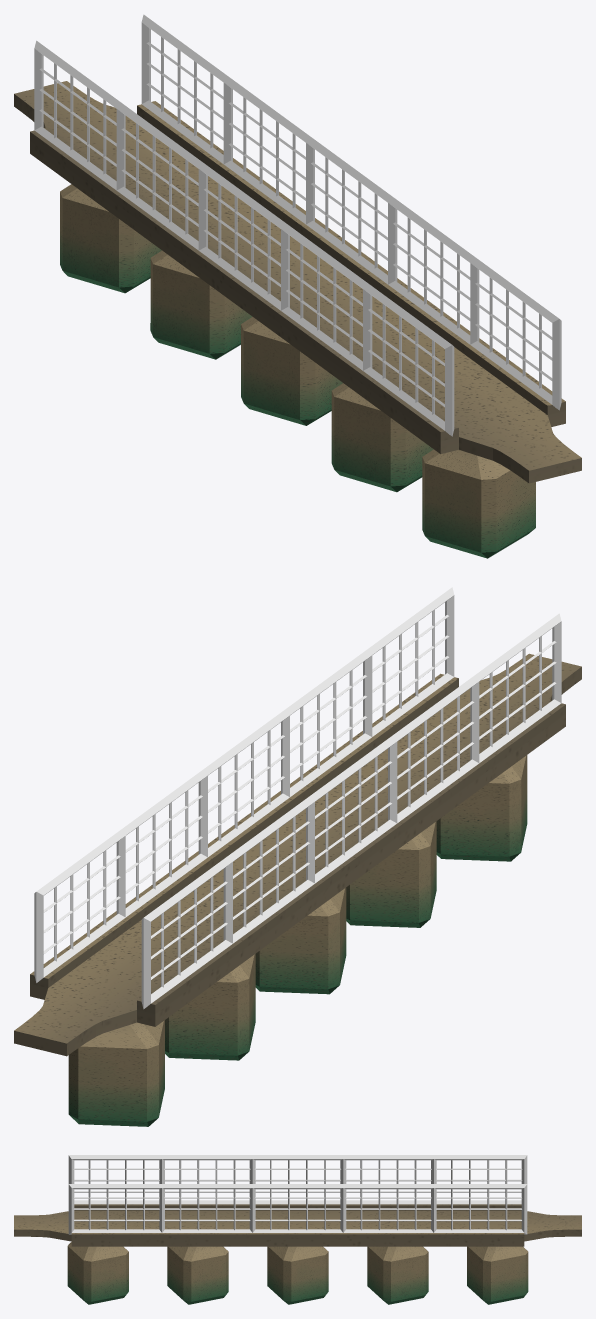
Rendered from puente topater.fbx.
3 views of the same model, one above another, from view 1: azimuth 30°, elevation 25°; view 2: azimuth 150°, elevation 25°; view 3: azimuth 270°, elevation 25° (orthographic). The views are drawn at different scales.
Visible parts, largest first — view 1: Cube.007; view 2: Cube.007; view 3: Cube.007.
Boxes of the visible parts, x1,y1,x2,y2 form: Cube.007: (14, 14, 581, 558); Cube.007: (14, 587, 581, 1126); Cube.007: (14, 1155, 581, 1304).
Size of the model in its own units: 320 by 550 by 2274.
